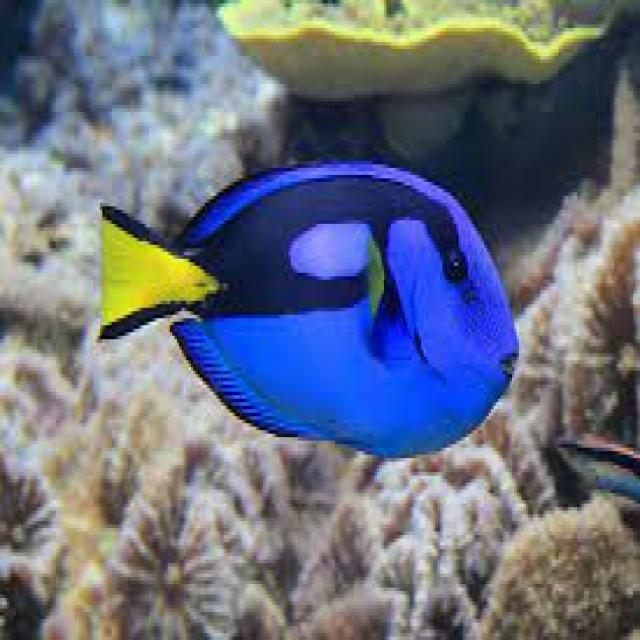BlueTang: (95, 126, 532, 474)
